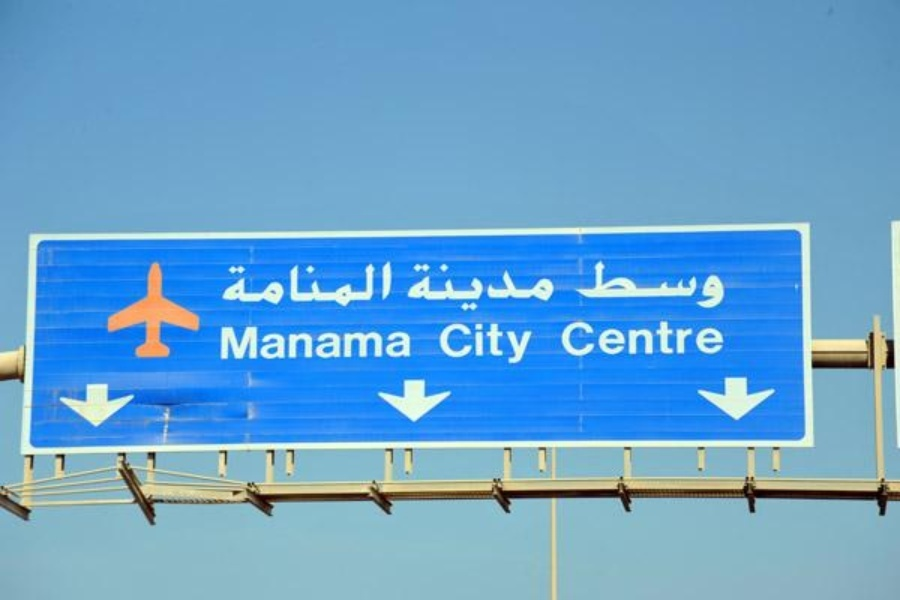text: (417, 260, 432, 313), (433, 260, 448, 313), (449, 260, 464, 313), (465, 260, 480, 313), (481, 260, 496, 313), (497, 260, 512, 313), (513, 260, 528, 313), (529, 260, 544, 313), (577, 259, 592, 311), (593, 259, 608, 311), (609, 259, 624, 311), (625, 259, 640, 311), (641, 259, 656, 311), (657, 259, 672, 311), (673, 259, 688, 311), (689, 259, 704, 311), (705, 259, 720, 311), (225, 259, 240, 310), (241, 259, 256, 310), (257, 259, 272, 310), (273, 259, 288, 310), (289, 259, 304, 310), (305, 259, 320, 310), (321, 259, 336, 310), (337, 259, 352, 310), (353, 259, 368, 310), (369, 259, 384, 310), (449, 322, 464, 365), (465, 322, 480, 365), (481, 322, 496, 365), (497, 322, 512, 365), (513, 322, 528, 365), (545, 260, 557, 313), (225, 325, 240, 364), (241, 325, 256, 364), (257, 325, 272, 364), (273, 325, 288, 364), (289, 325, 304, 364), (305, 325, 320, 364), (321, 325, 336, 364), (337, 325, 352, 364), (353, 325, 368, 364), (369, 325, 384, 364), (385, 325, 400, 364), (561, 320, 576, 358), (577, 320, 592, 358), (593, 320, 608, 358), (609, 320, 624, 358), (625, 320, 640, 358), (641, 320, 656, 358), (657, 320, 672, 358), (673, 320, 688, 358), (689, 320, 704, 358), (705, 320, 720, 358), (407, 260, 416, 313), (437, 322, 448, 365), (401, 325, 413, 364), (385, 259, 394, 310), (721, 320, 730, 358), (217, 325, 224, 364), (721, 259, 725, 311), (529, 322, 533, 365), (223, 259, 224, 310)
